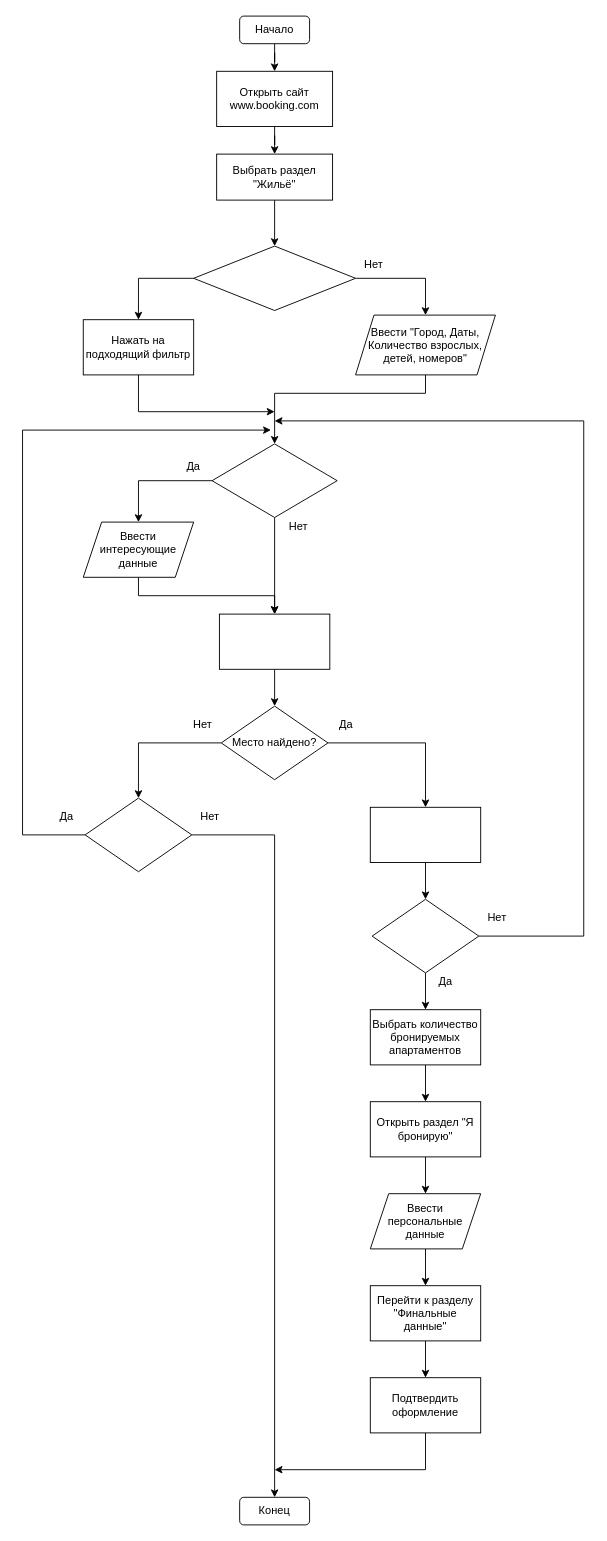
This 607x1541 diagram has some shape labels left out. Each missing label, with the centre of its shape:
Быстрого фильтра "города" достаточно?: (x=274, y=277)
Место соответствует ожиданиям?: (x=425, y=935)
Нужны дополнительные фильтры/изменить фильтры?: (x=274, y=480)
Открыть "Посмотреть наличие мест": (x=425, y=834)
Поиск подходящего места в списке: (x=274, y=641)
Продолжать поиски?: (x=138, y=834)
